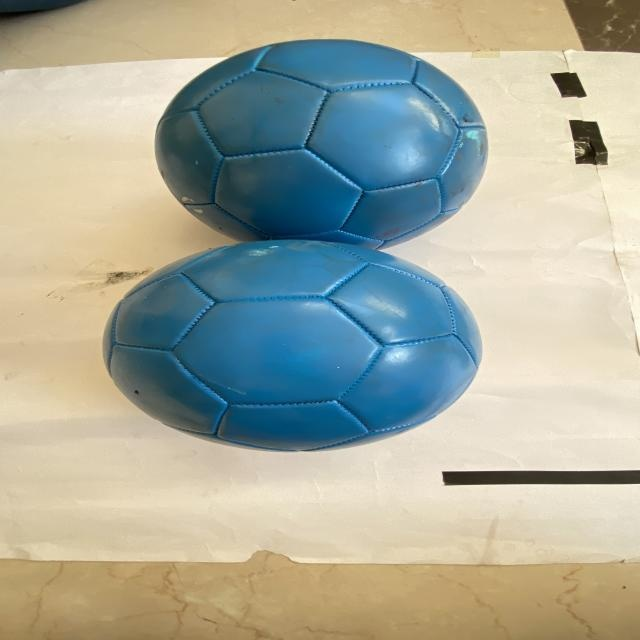blue_ball: (123, 247, 491, 446), (152, 44, 505, 239)
